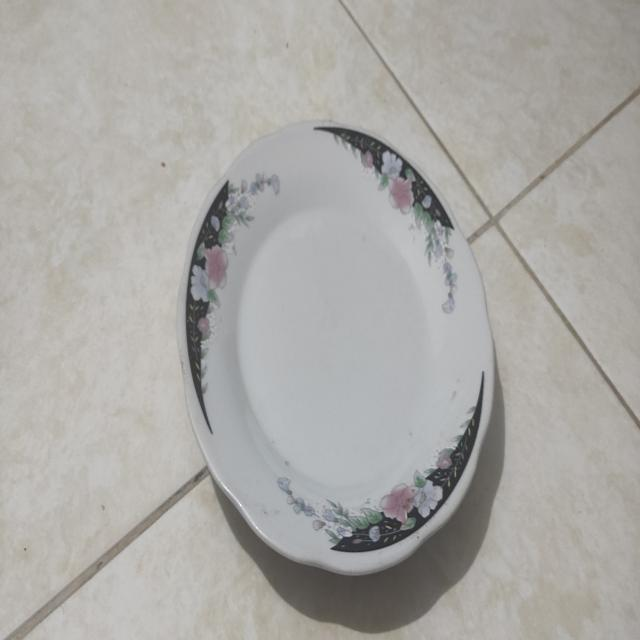ceramic plate: (168, 104, 507, 590)
